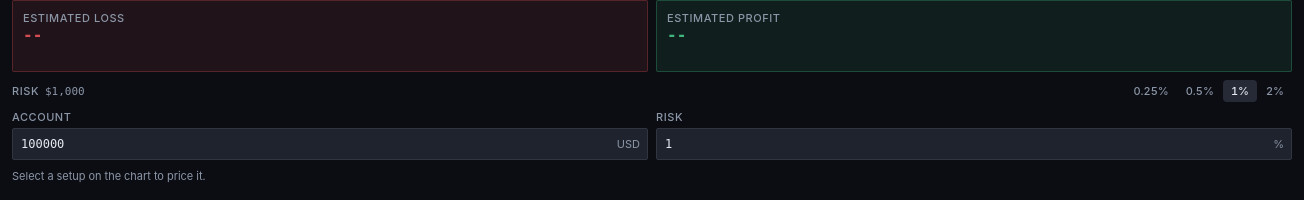
Test case: PositionSizing risk budget › follows the risk preset it sits beside
Click the button "2%" at (1275, 91), box [1258,80,1292,102]
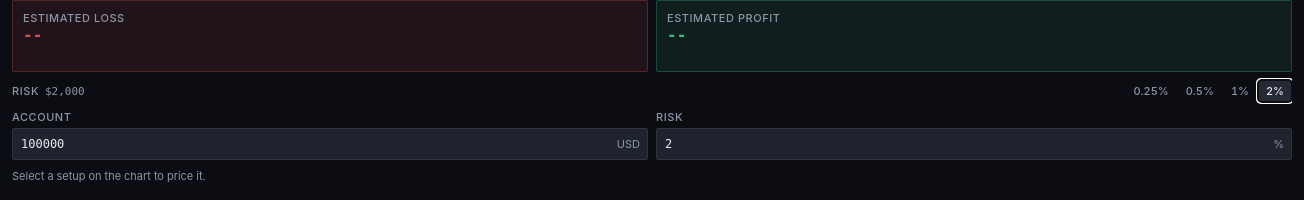
Expected: the text "$2,000" is shown, [45,84,85,98]
